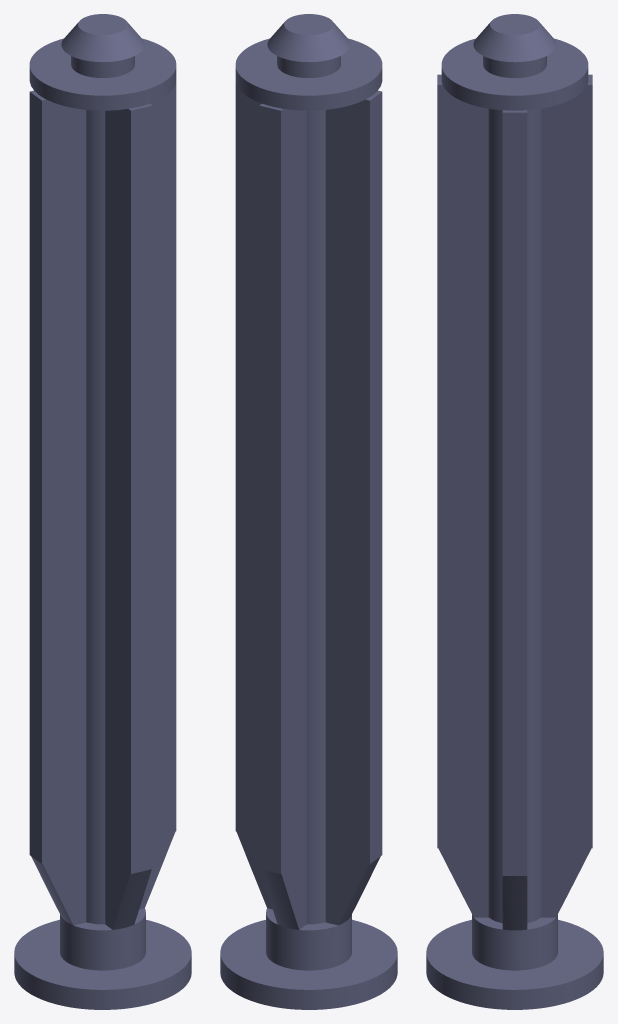
Rendered from plunger_rod.glb.
3 renders of one model, left to right at view 1: azimuth 30°, elevation 25°; view 2: azimuth 150°, elevation 25°; view 3: azimuth 270°, elevation 25°, orthographic.
Visible parts, largest first — view 1: _glb_rod; view 2: _glb_rod; view 3: _glb_rod.
Part boxes in pixels (box(x1,y1,x2,y2)): _glb_rod: box(14, 14, 191, 1009); _glb_rod: box(220, 14, 397, 1009); _glb_rod: box(426, 14, 603, 1009).
Bounding box in the file's own units: 0.0128 × 0.0755 × 0.0128.
